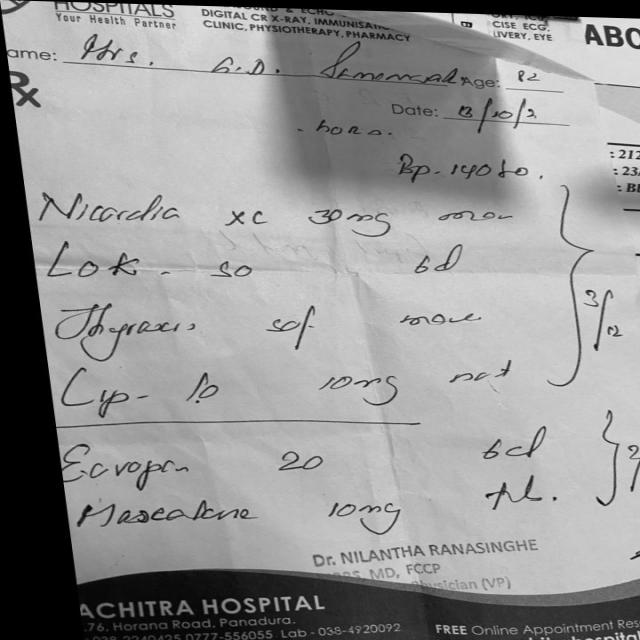Prescription: (45, 346, 513, 429), (59, 467, 546, 540), (50, 423, 546, 490), (28, 182, 516, 236), (44, 298, 477, 355), (45, 230, 458, 286)
